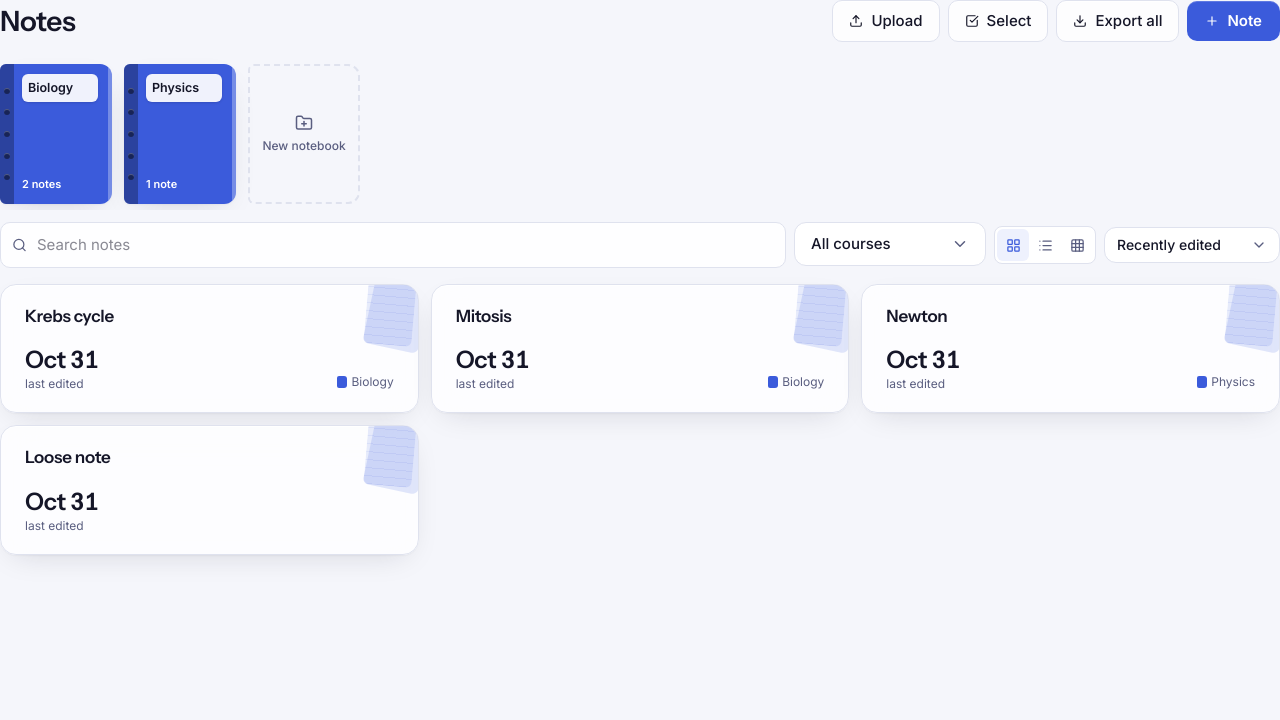
Scenario: moving notes into a notebook › moves several selected notes at once, and can take them out of a notebook
The image size is (1280, 720).
Expected: the text "Krebs cycle" is shown, [25,306,114,326]
Click the button "Select" at (998, 21), box [948,0,1048,42]
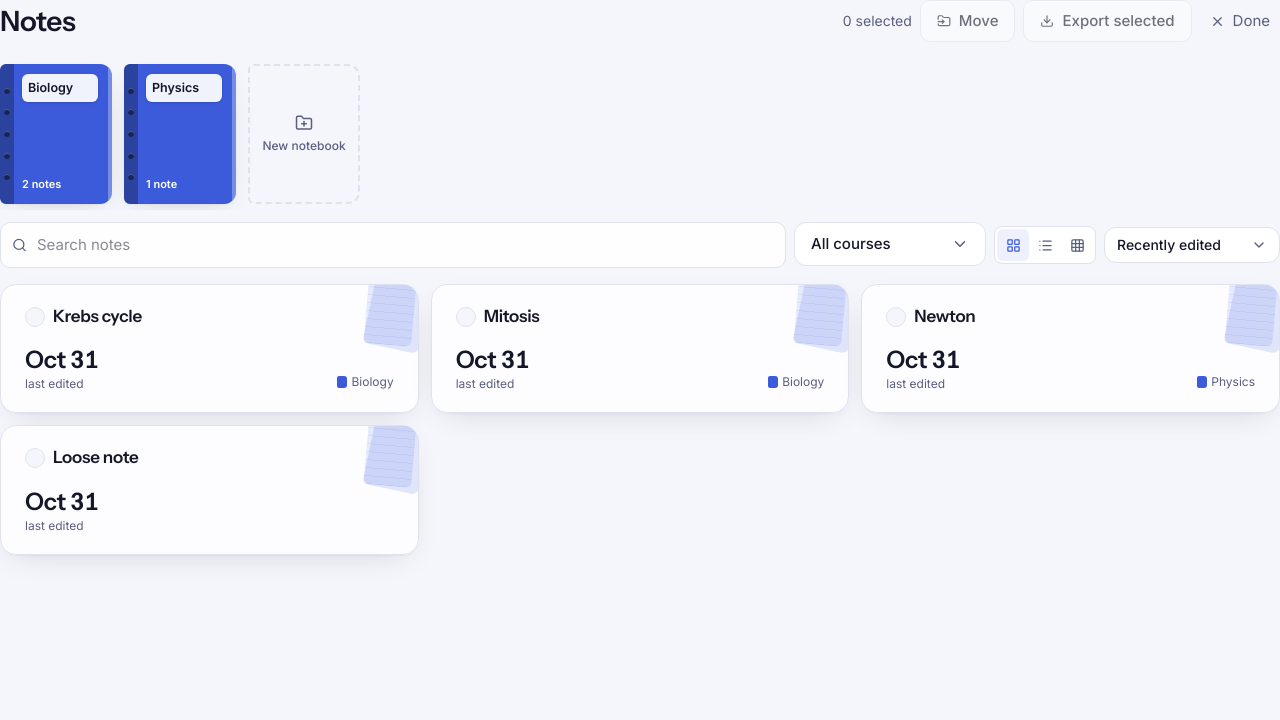
Click the checkbox named "Select Krebs cycle" at (97, 316), box [0,284,419,413]
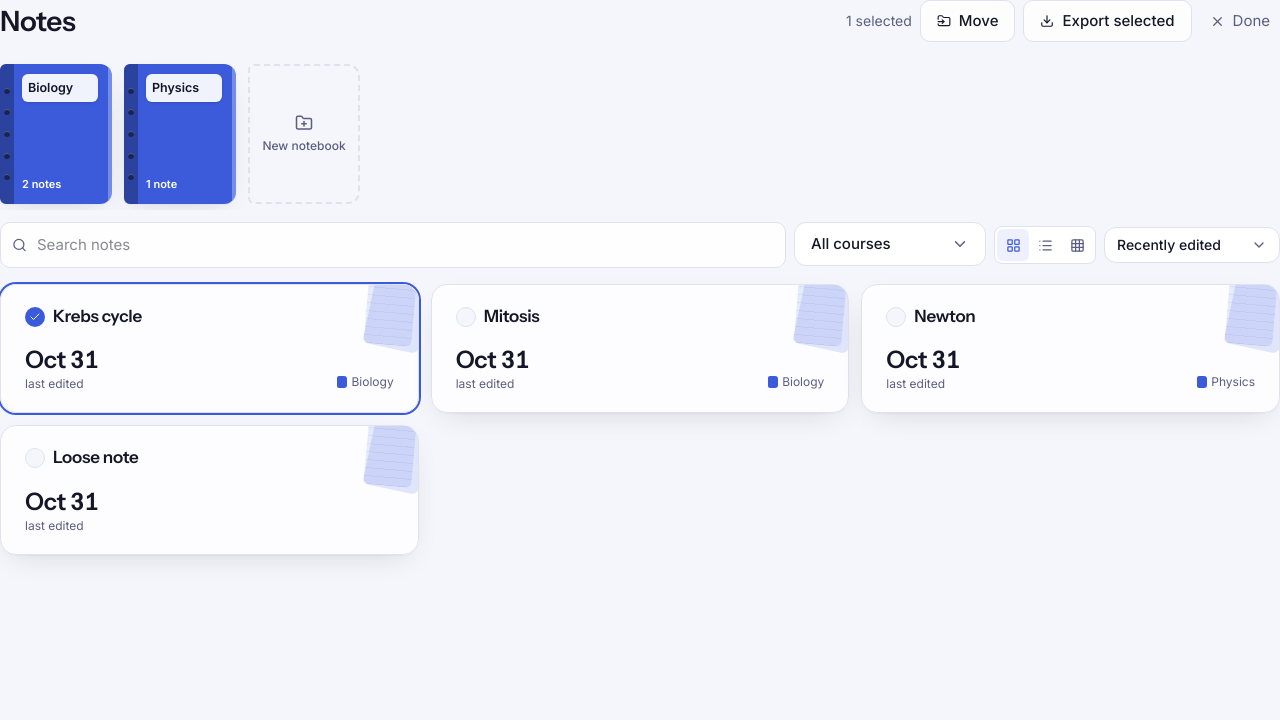
Click the checkbox named "Select Mitosis" at (512, 316), box [431,284,849,413]
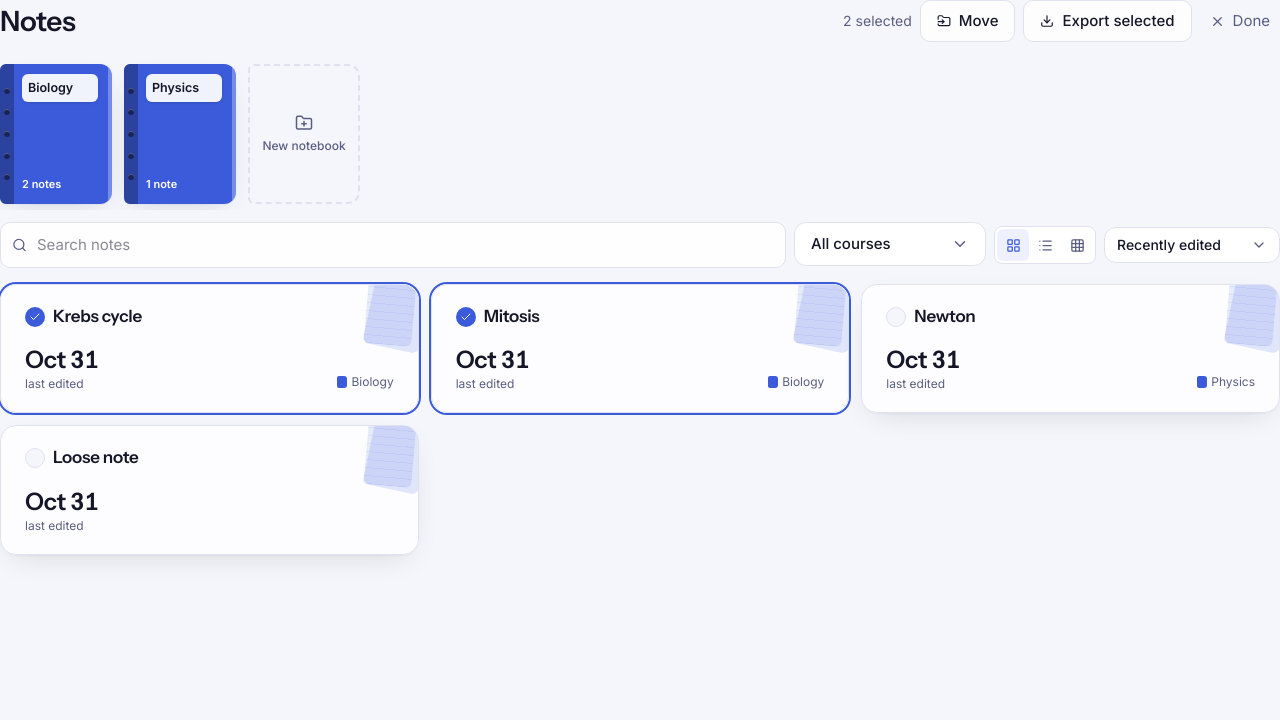
Click the button with aria-label "Move to notebook" at (968, 21), box [920,0,1016,42]
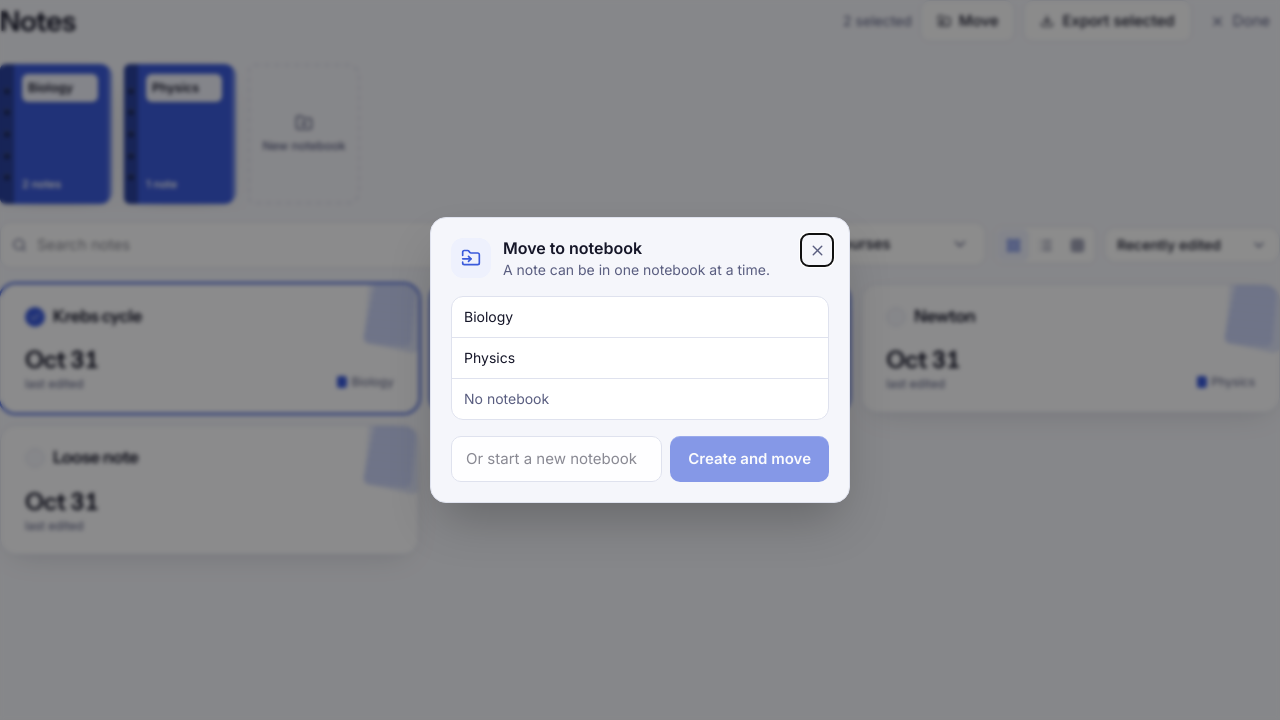
Click the button "No notebook" at (507, 398), box [452,379,828,419]
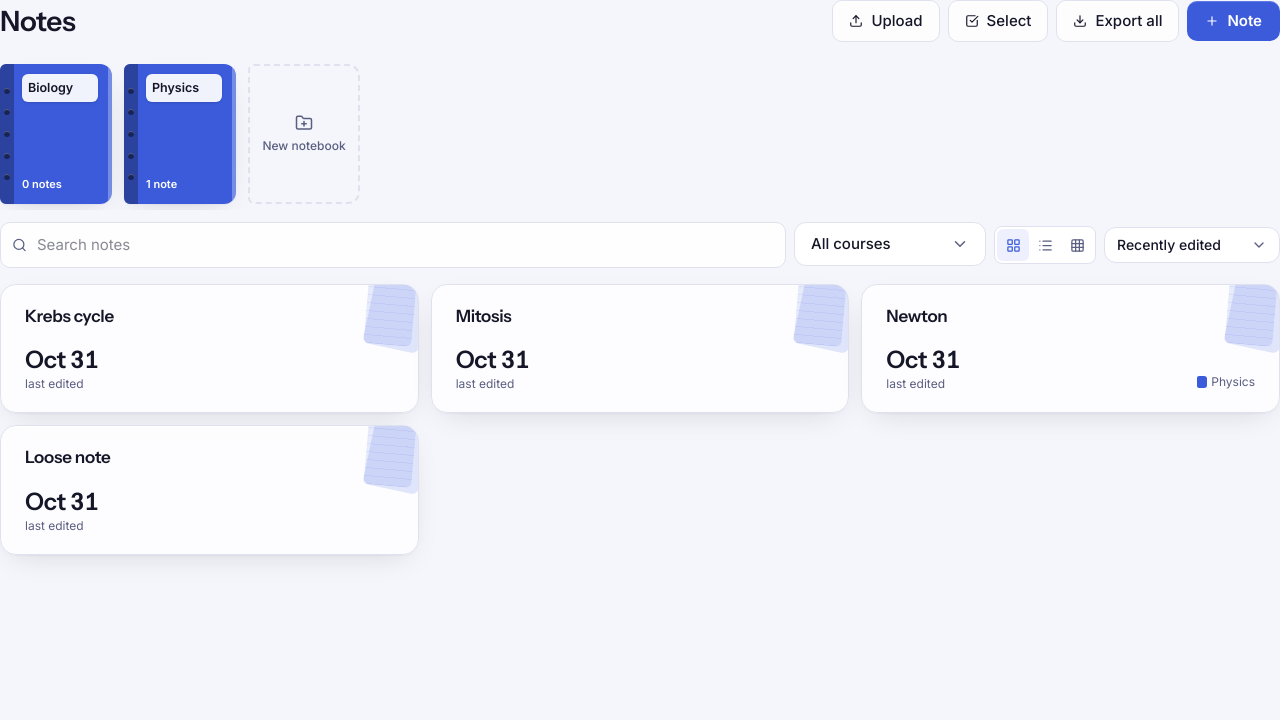
Expected: the link with aria-label "Open Biology, 0 notes" is shown, [0,64,112,204]
